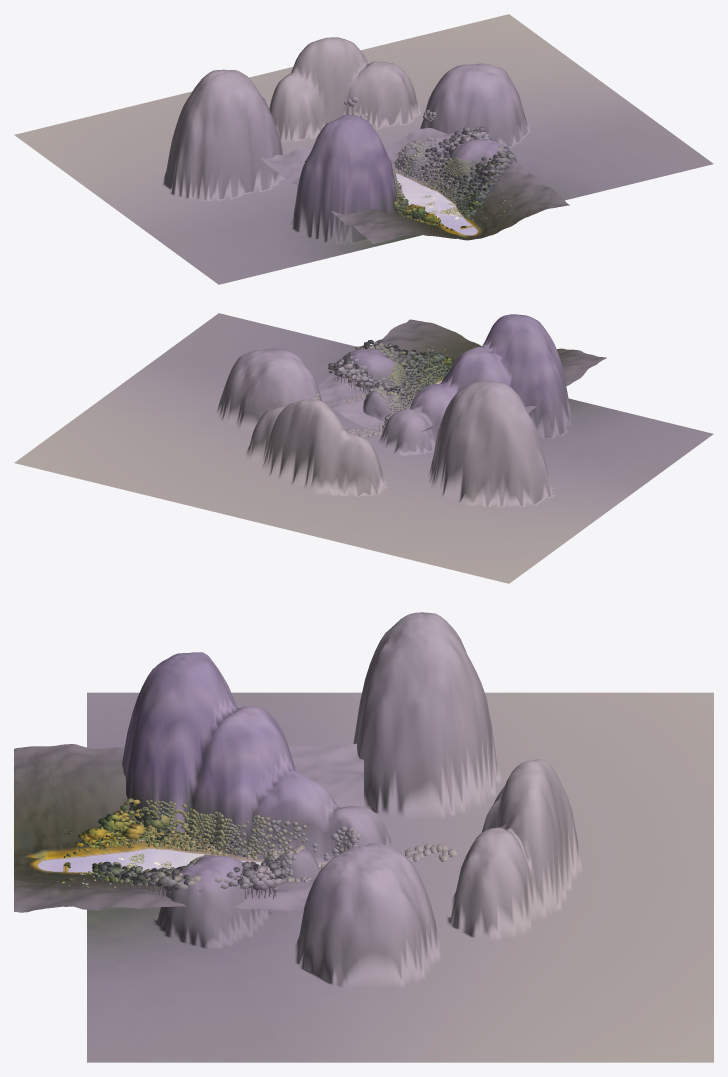
The model's file is Pampa_Sarovar_Scene.glb.
3 renders of one model, top to bottom at view 1: azimuth 30°, elevation 25°; view 2: azimuth 150°, elevation 25°; view 3: azimuth 270°, elevation 25°, orthographic. The views are drawn at different scales.
Visible parts, largest first — view 1: Hills, Terrain, Canopy, Forest_Far, Water, Bushes; view 2: Hills, Terrain, Canopy, Forest_Far, Bushes; view 3: Hills, Terrain, Canopy, Forest_Far, Water, Bushes.
Boxes of the visible parts, x1,y1,x2,y2 form: Hills: (14, 14, 713, 284); Terrain: (261, 128, 569, 243); Canopy: (304, 126, 515, 226); Forest_Far: (344, 96, 477, 212); Water: (396, 173, 477, 235); Bushes: (397, 179, 511, 232); Hills: (14, 313, 713, 583); Terrain: (318, 319, 606, 434); Canopy: (328, 339, 453, 409); Forest_Far: (313, 358, 443, 438); Bushes: (403, 346, 456, 395); Hills: (87, 612, 713, 1062); Terrain: (14, 743, 363, 912); Canopy: (75, 798, 286, 891); Forest_Far: (87, 800, 457, 882); Water: (38, 849, 321, 875); Bushes: (56, 822, 216, 890).
Bounding box in the file's own units: 1200 × 241 × 960.
